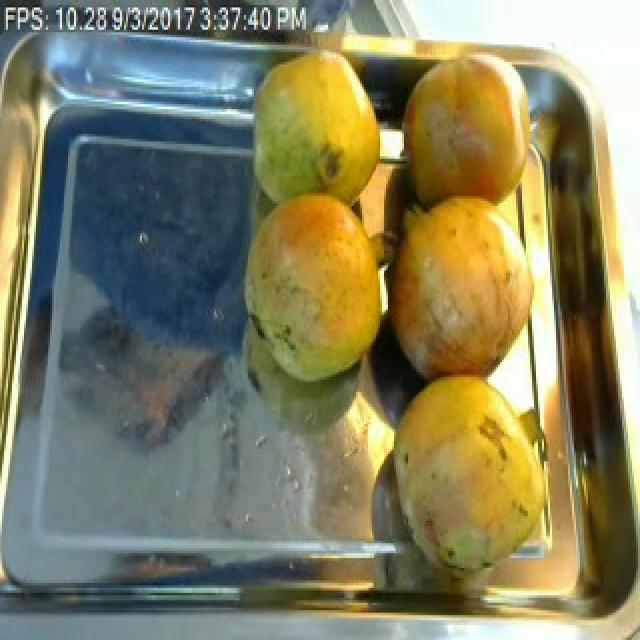fruit: (386, 362, 562, 590), (234, 176, 398, 392), (380, 181, 544, 390), (390, 37, 550, 216), (242, 35, 392, 213)
